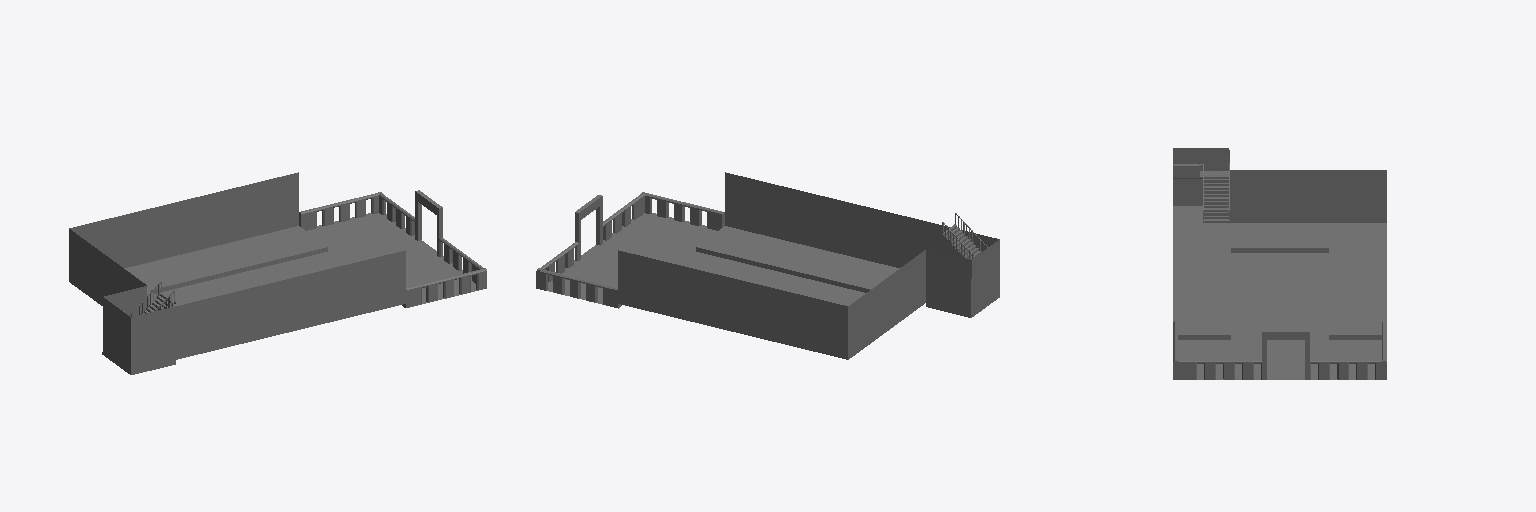
Rendered from Gloor0.obj.
3 views of the same model, side by side, from view 1: azimuth 30°, elevation 25°; view 2: azimuth 150°, elevation 25°; view 3: azimuth 270°, elevation 25° (orthographic).
Visible parts, largest first — view 1: polySurface1101; view 2: polySurface1101; view 3: polySurface1101.
Boxes of the visible parts, <box> form: polySurface1101: <box>69,172,486,374</box>; polySurface1101: <box>536,172,999,359</box>; polySurface1101: <box>1173,148,1386,379</box>.
Size of the model in its own units: 4730 by 938 by 2451.